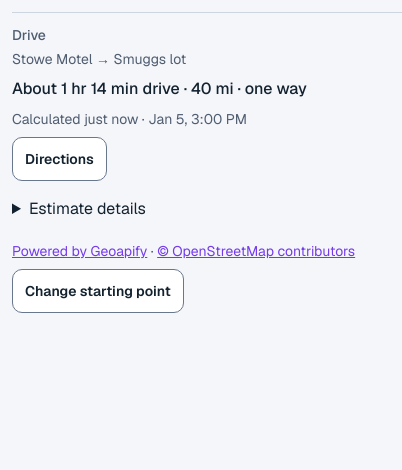
it: The day's drive › shows the stay to the access point, one way, with Directions in Google Maps and the estimate's details
Expected: the text "Stowe Motel → Smuggs lot" is shown, [12,50,186,68]
Expected: the text "About 1 hr 14 min drive · 40 mi · one way" is shown, [12,78,307,99]
Click the heading "Estimate details": (87, 208) [29,198,146,219]
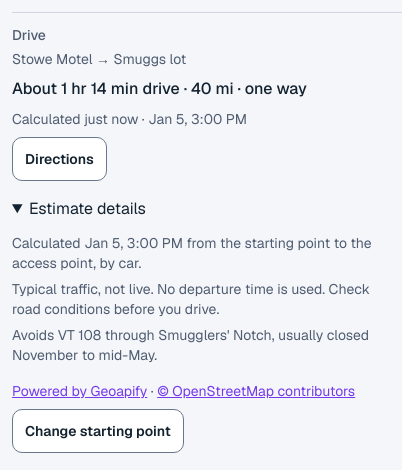
Expected: the link "Powered by Geoapify" is shown, [12,382,147,400]
Expected: the text "Typical traffic, not live. No departure time is used. Check road conditions before you drive." is shown, [12,280,370,318]
Expected: the text "Avoids VT 108 through Smugglers' Notch, usually closed November to mid-May." is shown, [12,325,401,365]
